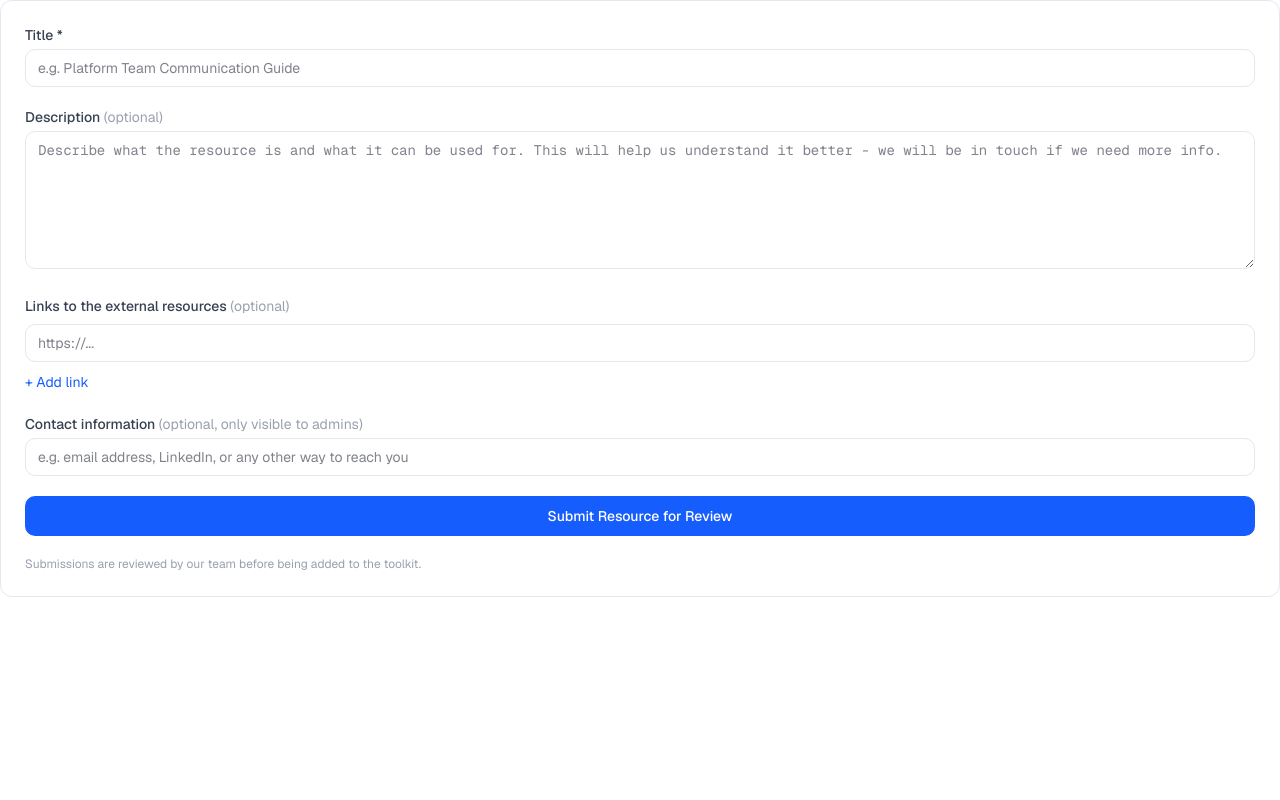
Test: SubmissionForm › when authenticated › shows error message from server on failed response
Type "My Resource" into the field labelled "Title *".
click(640, 68); type("My Resource")  # box [25,49,1255,87]
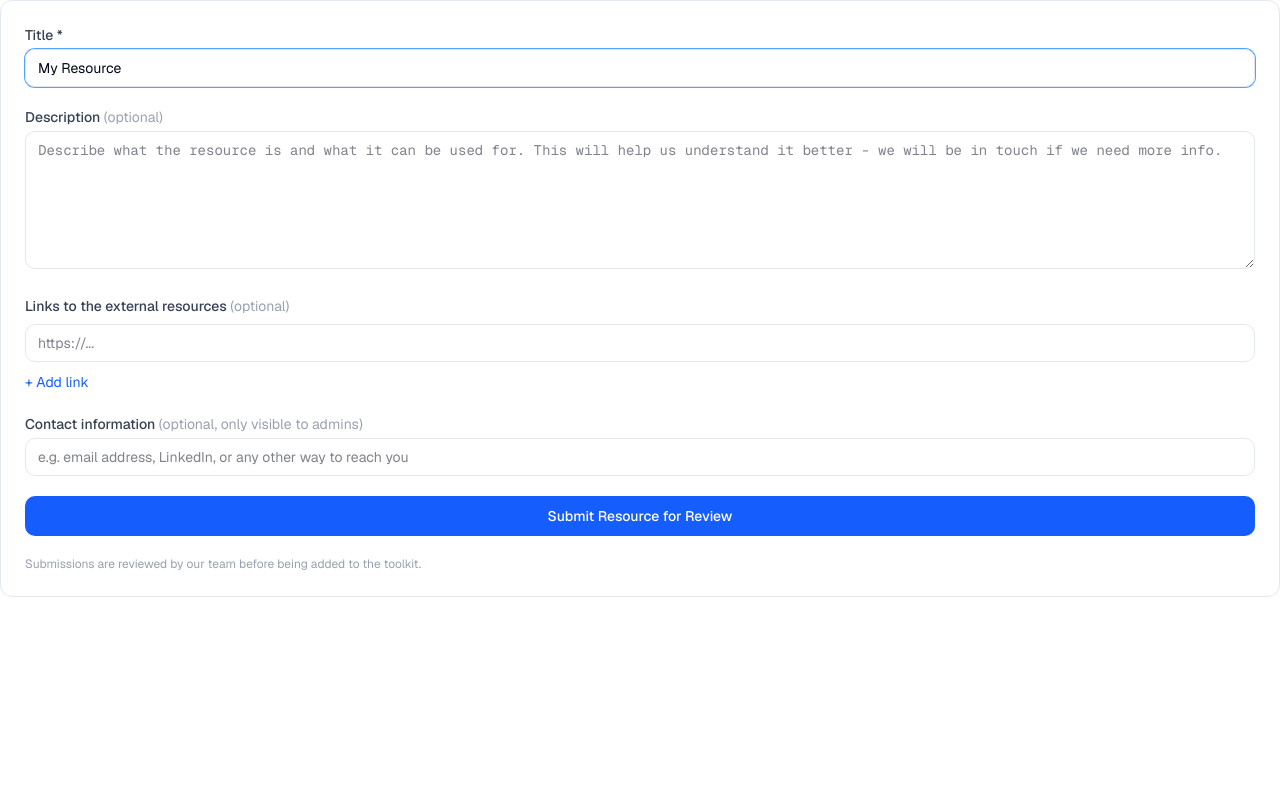
Submit the form named "submit resource"
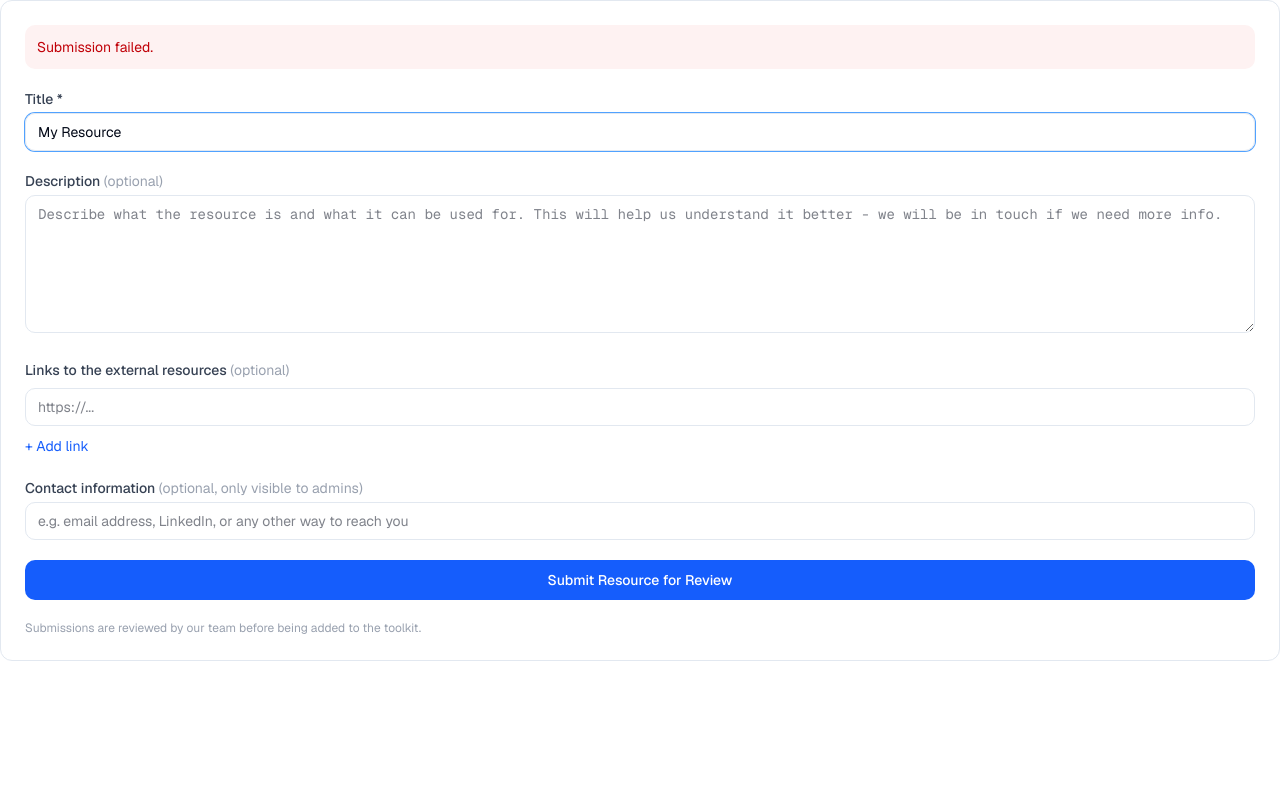
Check: the text "Submission failed." is shown, box [25,25,1255,69]
